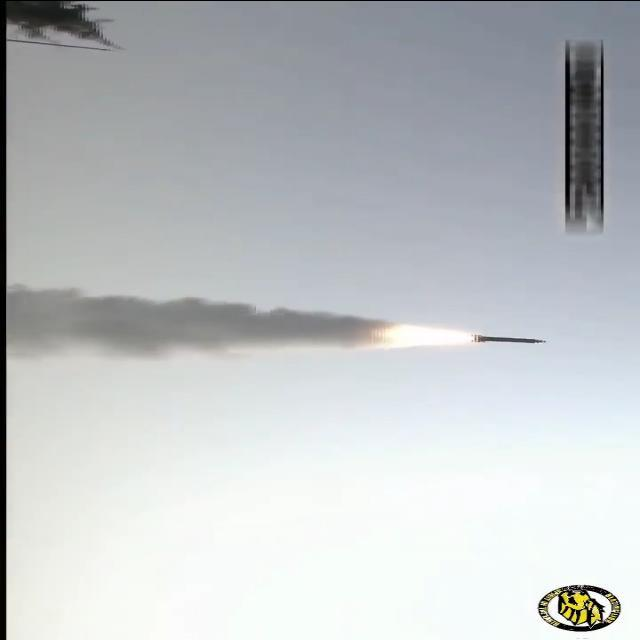Missile: (470, 332, 550, 346)
